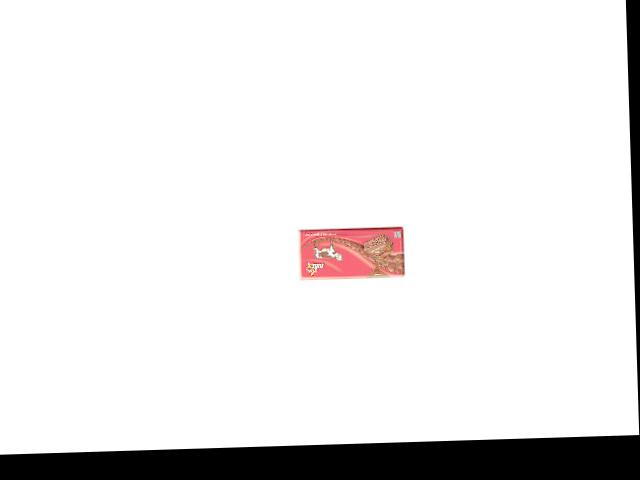chocolate: (294, 220, 407, 282)
